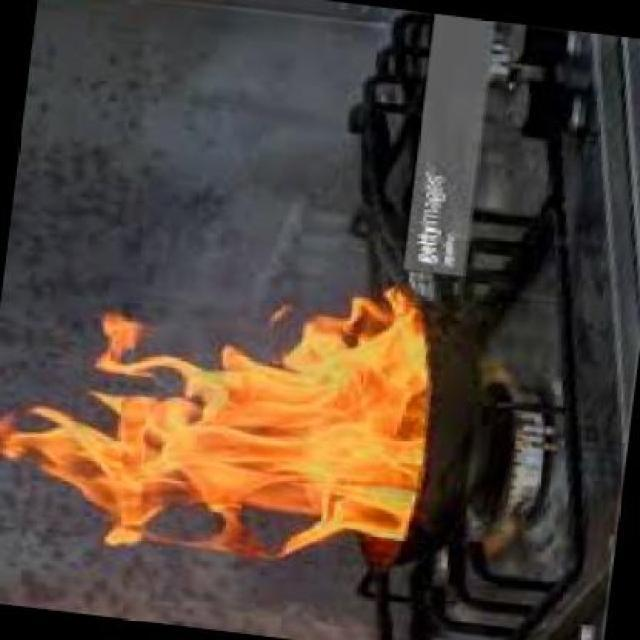Fire: (16, 277, 482, 584)
